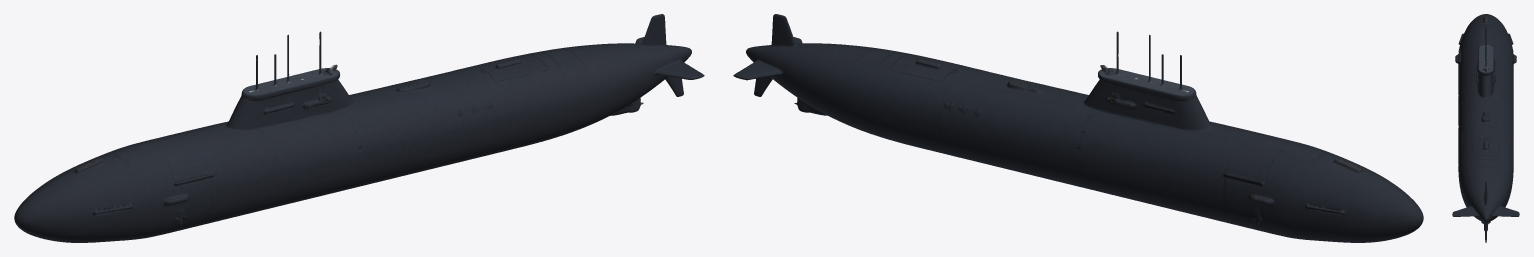
File: knight_black.glb
3 views of the same model, side by side, from view 1: azimuth 30°, elevation 25°; view 2: azimuth 150°, elevation 25°; view 3: azimuth 270°, elevation 25° (orthographic). The views are drawn at different scales.
Visible parts, largest first — view 1: mesh_node; view 2: mesh_node; view 3: mesh_node.
Boxes of the visible parts, x1,y1,x2,y2 form: mesh_node: (14, 14, 704, 242); mesh_node: (733, 14, 1423, 242); mesh_node: (1452, 14, 1519, 242).
Size of the model in its own units: 1.9 by 0.44 by 0.266.
Materials: 1 (1 with a texture image).
